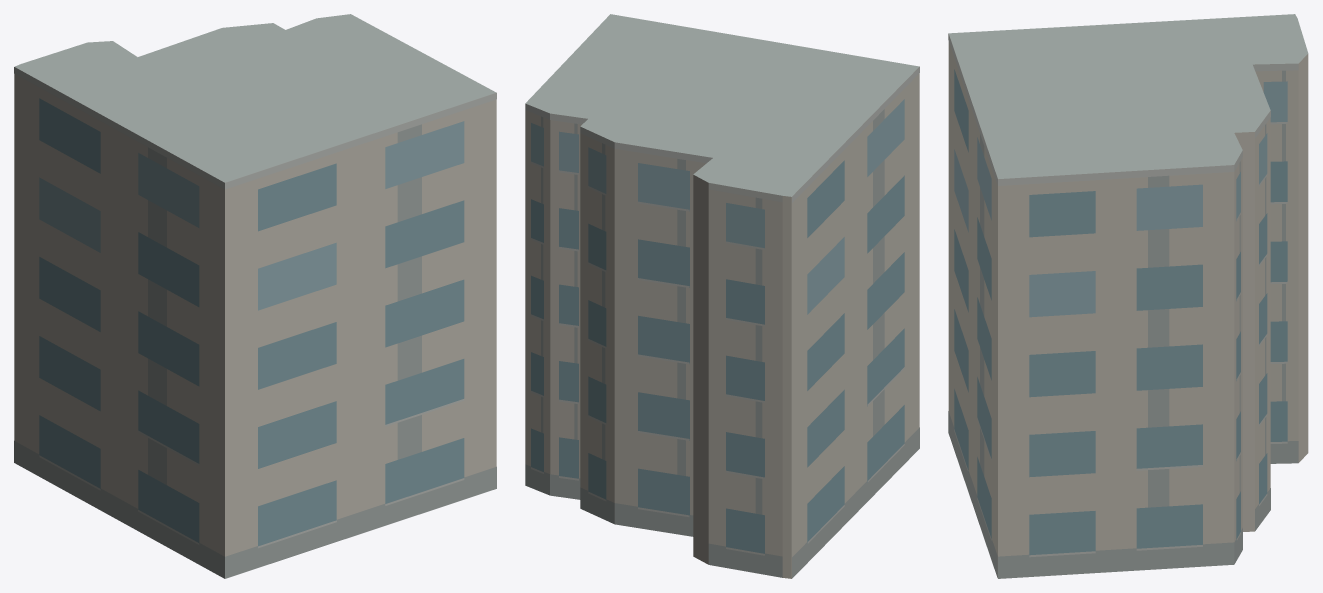
Rendered from survey-upis-32575929.glb.
3 views of the same model, side by side, from view 1: azimuth 30°, elevation 25°; view 2: azimuth 150°, elevation 25°; view 3: azimuth 270°, elevation 25° (orthographic). The views are drawn at different scales.
Visible parts, largest first — view 1: survey-upis-32575929.tmp; view 2: survey-upis-32575929.tmp; view 3: survey-upis-32575929.tmp.
Boxes of the visible parts, x1=… form: survey-upis-32575929.tmp: x1=14, y1=14, x2=496, y2=578; survey-upis-32575929.tmp: x1=525, y1=14, x2=919, y2=578; survey-upis-32575929.tmp: x1=948, y1=14, x2=1308, y2=578.
Bounding box in the file's own units: 12.59 × 14.2 × 11.59.
